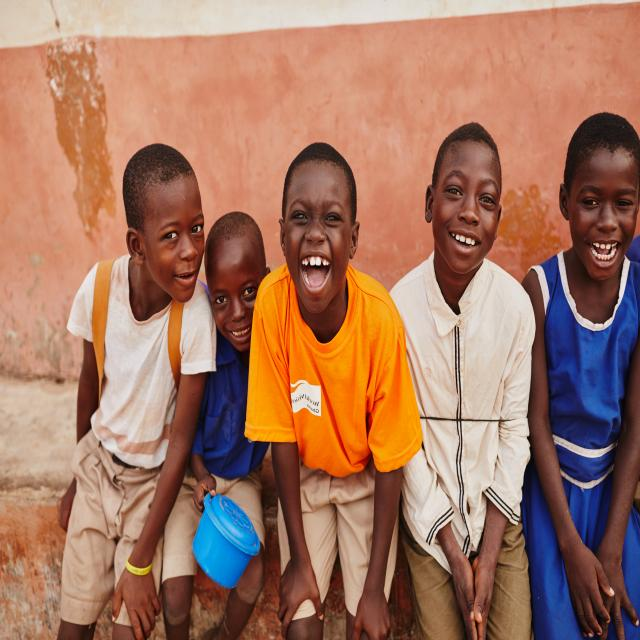child: (56, 141, 216, 640), (246, 142, 405, 640), (398, 123, 530, 640), (524, 108, 640, 640), (162, 205, 272, 640)
